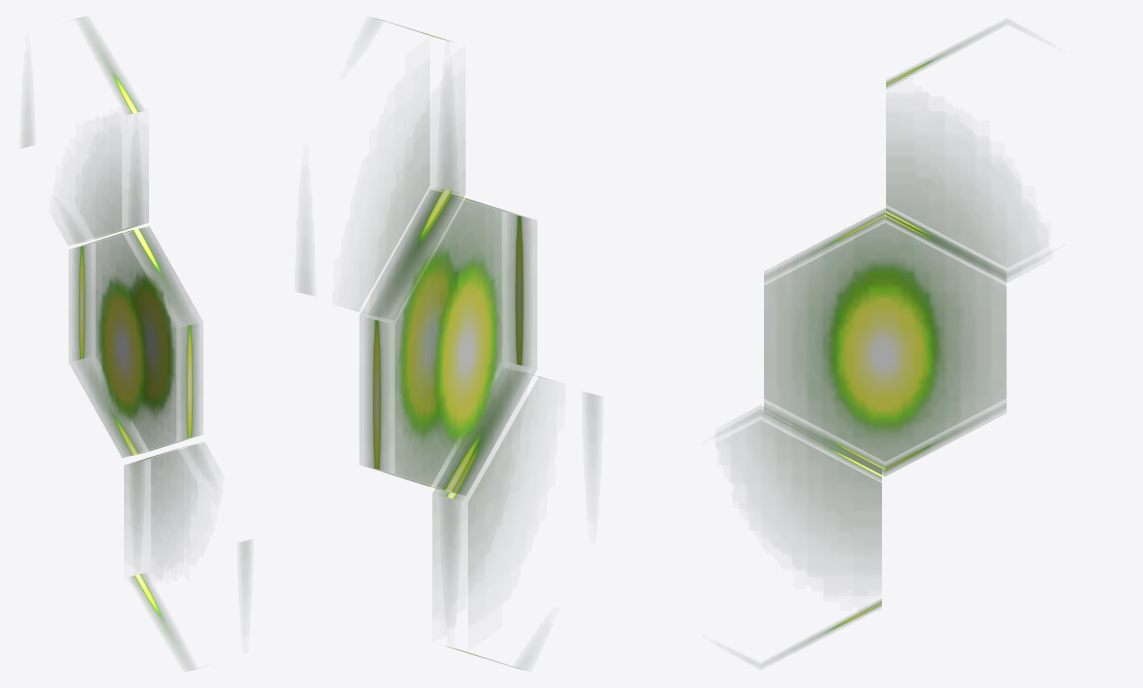
The picture shows the model from 3 angles, left to right: view 1: azimuth 30°, elevation 25°; view 2: azimuth 150°, elevation 25°; view 3: azimuth 270°, elevation 25°; orthographic projection. The views are drawn at different scales.
Size of the model in its own units: 0.1085 by 2.2 by 1.51.
1 material, 1 textured.
